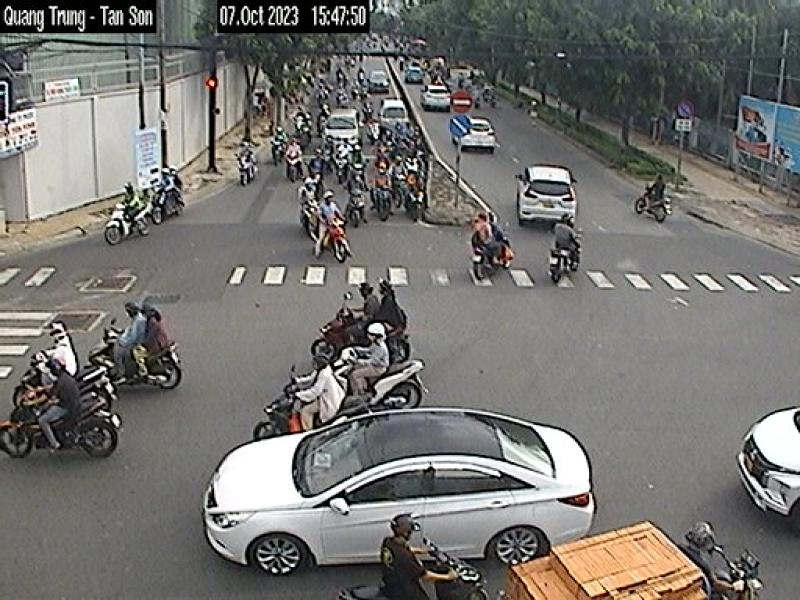car: (199, 406, 594, 574), (739, 406, 800, 539)
motorcycle: (0, 397, 122, 456), (88, 330, 188, 394), (246, 369, 301, 436), (365, 358, 426, 408)
